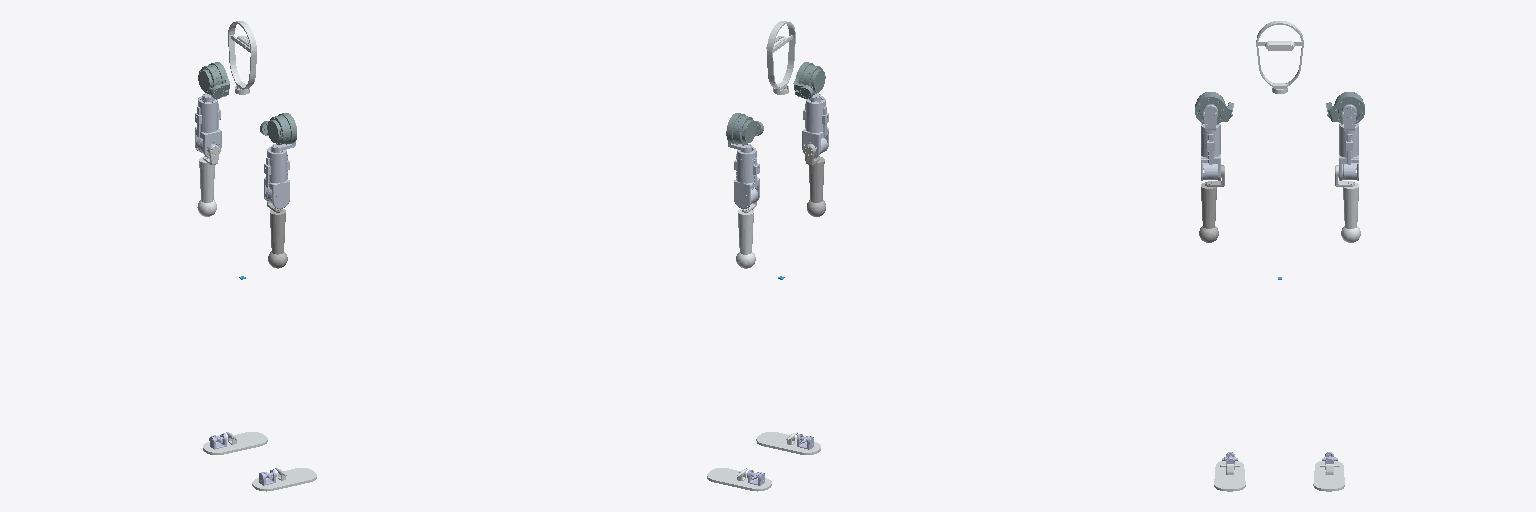
--- What the picture shows (computed from the rendered views, not written in the file) ---
Views: 3 orthographic renders of the robot side by side, from view 1: azimuth 30°, elevation 25°; view 2: azimuth 150°, elevation 25°; view 3: azimuth 270°, elevation 25°.
Robot: v3all — 24 links, 23 joints (22 revolute, 1 fixed); root link base_link; default pose: every joint at zero.
Visible links, largest first — view 1: right_arm_yaw_link, left_arm_yaw_link, head_link, left_arm_pitch_lower_link, right_arm_pitch_lower_link, left_arm_pitch_higher_link, right_arm_pitch_higher_link, left_ankle_roll_link, right_ankle_roll_link; view 2: left_arm_yaw_link, right_arm_yaw_link, head_link, right_arm_pitch_lower_link, left_arm_pitch_lower_link, left_arm_pitch_higher_link, right_arm_pitch_higher_link, left_ankle_roll_link, right_ankle_roll_link; view 3: left_arm_yaw_link, right_arm_yaw_link, left_arm_pitch_lower_link, right_arm_pitch_lower_link, head_link, left_ankle_roll_link, right_ankle_roll_link, right_arm_pitch_higher_link, left_arm_pitch_higher_link.
Boxes of the visible links, x1,y1,x2,y2 form: right_arm_yaw_link: (264, 147, 289, 208); left_arm_yaw_link: (195, 96, 221, 158); head_link: (228, 21, 256, 94); left_arm_pitch_lower_link: (197, 145, 219, 216); right_arm_pitch_lower_link: (267, 202, 287, 268); left_arm_pitch_higher_link: (198, 62, 229, 98); right_arm_pitch_higher_link: (260, 113, 296, 144); left_ankle_roll_link: (203, 432, 267, 454); right_ankle_roll_link: (252, 468, 316, 491); left_arm_yaw_link: (734, 147, 759, 208); right_arm_yaw_link: (802, 96, 828, 158); head_link: (766, 21, 795, 94); right_arm_pitch_lower_link: (804, 145, 825, 216); left_arm_pitch_lower_link: (736, 202, 756, 268); left_arm_pitch_higher_link: (726, 113, 763, 144); right_arm_pitch_higher_link: (793, 62, 825, 98); left_ankle_roll_link: (707, 468, 771, 491); right_ankle_roll_link: (756, 432, 820, 454); left_arm_yaw_link: (1339, 123, 1358, 180); right_arm_yaw_link: (1201, 123, 1220, 180); left_arm_pitch_lower_link: (1335, 165, 1360, 242); right_arm_pitch_lower_link: (1199, 165, 1224, 242); head_link: (1256, 21, 1303, 93); left_ankle_roll_link: (1313, 461, 1344, 491); right_ankle_roll_link: (1214, 461, 1245, 491); right_arm_pitch_higher_link: (1195, 92, 1233, 123); left_arm_pitch_higher_link: (1326, 92, 1364, 123).
Size in the robot's own frame: 0.21 by 0.518 by 1.5 metres.
13 mesh visuals loaded from 23 distinct referenced files (13 binary STL); not drawn: 10 (reference not matched to a file when rendering).

The robot description file, URDF, robot "v3all":
<?xml version="1.0" encoding="utf-8"?>
<!-- This URDF was automatically created by SolidWorks to URDF Exporter! Originally created by Stephen Brawner ([email redacted]) 
     Commit Version: 1.6.0-4-g7f85cfe  Build Version: 1.6.7995.38578
     For more information, please see http://wiki.ros.org/sw_urdf_exporter -->
<robot
  name="v3all">

  <!-- <mujoco>
    <compiler meshdir="package://v3all/meshes"  balanceinertia="true"  discardvisual="false"/>
  </mujoco> -->

  <gazebo>
    <joint name="world_to_base" type="fixed">
        <parent>world</parent>
        <child>base_link</child>
    </joint>
  </gazebo>  
  

  <link
    name="base_link">
    <inertial>
      <origin
        xyz="-1E-06 5E-07 0.0919"
        rpy="0 0 0" />
      <mass
        value="5.9904" />
      <inertia
        ixx="0.039668"
        ixy="-3E-06"
        ixz="-1.4E-05"
        iyy="0.026908"
        iyz="-5E-06"
        izz="0.028199" />
    </inertial>
    <visual>
      <origin
        xyz="0 0 0"
        rpy="0 0 0" />
      <geometry>
        <mesh
          filename="package://v3all/meshes/base_link.STL" />
      </geometry>
      <material
        name="">
        <color
          rgba="0.7529 0.7529 0.7529 1" />
      </material>
    </visual>
    <!-- <collision>
      <origin
        xyz="0 0. 0.43"
        rpy="0 0 0" />
      <geometry>
        <box size="0.21 0.52 0.86"/>
      </geometry>
    </collision> -->
    <collision>
      <origin
        xyz="0 0 0"
        rpy="0 0 0" />
      <geometry>
        <mesh
          filename="package://v3all/meshes/base_link.STL" />
      </geometry>
    </collision>
  </link>

  <joint name="imu_joint" type="fixed">
    <origin rpy="0. 0. 0." xyz="0. 0. 0"/>
    <parent link="base_link"/>
    <child link="imu_link"/>
  </joint>
  <!-- Imu link -->
  <link name="imu_link">
    <inertial>
      <mass value="0.01"/>
      <origin rpy="0 0 0" xyz="0 0 0"/>
      <inertia ixx="0.000001" ixy="0" ixz="0" iyy="0.000001" iyz="0" izz="0.000001"/>
    </inertial>
    <visual>
      <origin rpy="0 0 0" xyz="0 0 0"/>
      <geometry>
        <box size="0.015 0.015 0.004"/>
      </geometry>
    </visual>
    <material name="orange">
      <color rgba="255 108 10 255"/>
    </material>
  </link>
  <gazebo reference="imu_joint">
    <disableFixedJointLumping>true</disableFixedJointLumping>
  </gazebo>

  <link
    name="left_hip_pitch_link">
    <inertial>
      <origin
        xyz="0.0013 2E-05 0.0723"
        rpy="0 0 0" />
      <mass
        value="1.51575" />
      <inertia
        ixx="0.003169"
        ixy="0"
        ixz="-1.4E-05"
        iyy="0.002662"
        iyz="4E-06"
        izz="0.001994" />
    </inertial>
    <visual>
      <origin
        xyz="0 0 0"
        rpy="0 0 0" />
      <geometry>
        <mesh
          filename="package://v3all/meshes/left_hip_pitch_link.STL" />
      </geometry>
      <material
        name="">
        <color
          rgba="0.752 0.752 0.752 1" />
      </material>
    </visual>
    <collision>
      <origin
        xyz="0 0 0"
        rpy="0 0 0" />
      <geometry>
        <mesh
          filename="package://v3all/meshes/left_hip_pitch_link.STL" />
      </geometry>
    </collision>
  </link>
  <joint
    name="left_hip_pitch_joint"
    type="revolute">
    <origin
      xyz="0 0.0717 0.0713"
      rpy="-1.8326 0 0" />
    <parent
      link="base_link" />
    <child
      link="left_hip_pitch_link" />
    <axis
      xyz="0 0 -1" />
    <limit
      lower="-0.78"
      upper="2.09"
      effort="150"
      velocity="140" />
  </joint>
  <link
    name="left_hip_roll_link">
    <inertial>
      <origin
        xyz="-0.0859 -0.023 -0.0056"
        rpy="0 0 0" />
      <mass
        value="1.883003" />
      <inertia
        ixx="0.003605"
        ixy="-0.00063"
        ixz="0.000351"
        iyy="0.005783"
        iyz="9.2E-05"
        izz="0.005331" />
    </inertial>
    <visual>
      <origin
        xyz="0 0 0"
        rpy="0 0 0" />
      <geometry>
        <mesh
          filename="package://v3all/meshes/left_hip_roll_link.STL" />
      </geometry>
      <material
        name="">
        <color
          rgba="0.752 0.752 0.752 1" />
      </material>
    </visual>
    <collision>
      <origin
        xyz="0 0 0"
        rpy="0 0 0" />
      <geometry>
        <mesh
          filename="package://v3all/meshes/left_hip_roll_link.STL" />
      </geometry>
    </collision>
  </link>
  <joint
    name="left_hip_roll_joint"
    type="revolute">
    <origin
      xyz="0.0035 0 0.082"
      rpy="-1.5708 0 -1.5708" />
    <parent
      link="left_hip_pitch_link" />
    <child
      link="left_hip_roll_link" />
    <axis
      xyz="0 0 -1" />
    <limit
      lower="-2.17"
      upper="0.44"
      effort="90"
      velocity="157" />
  </joint>
  <link
    name="left_hip_yaw_link">
    <inertial>
      <origin
        xyz="-0.0038 -0.002 0.2637"
        rpy="0 0 0" />
      <mass
        value="3.121094" />
      <inertia
        ixx="0.012279"
        ixy="5E-06"
        ixz="5.8E-05"
        iyy="0.010554"
        iyz="0"
        izz="0.005795" />
    </inertial>
    <visual>
      <origin
        xyz="0 0 0"
        rpy="0 0 0" />
      <geometry>
        <mesh
          filename="package://v3all/meshes/left_hip_yaw_link.STL" />
      </geometry>
      <material
        name="">
        <color
          rgba="0.752 0.752 0.752 1" />
      </material>
    </visual>
    <collision>
      <origin
        xyz="0 0 0"
        rpy="0 0 0" />
      <geometry>
        <mesh
          filename="package://v3all/meshes/left_hip_yaw_link.STL" />
      </geometry>
    </collision>
  </link>
  <joint
    name="left_hip_yaw_joint"
    type="revolute">
    <origin
      xyz="0 0 0"
      rpy="1.5708 0 -1.309" />
    <parent
      link="left_hip_roll_link" />
    <child
      link="left_hip_yaw_link" />
    <axis
      xyz="0 0 -1" />
    <limit
      lower="-1.19"
      upper="1.19"
      effort="90"
      velocity="157" />
  </joint>
  <link
    name="left_knee_link">
    <inertial>
      <origin
        xyz="0.0014 0.1786 -0.0035"
        rpy="0 0 0" />
      <mass
        value="2.333767" />
      <inertia
        ixx="0.021691"
        ixy="-0.000614"
        ixz="-1.8E-05"
        iyy="0.002347"
        iyz="-0.000306"
        izz="0.021125" />
    </inertial>
    <visual>
      <origin
        xyz="0 0 0"
        rpy="0 0 0" />
      <geometry>
        <mesh
          filename="package://v3all/meshes/left_knee_link.STL" />
      </geometry>
      <material
        name="">
        <color
          rgba="0.8078 0.8431 0.9059 1" />
      </material>
    </visual>
<!--    <collision>-->
<!--      <origin-->
<!--        xyz="0 0 0"-->
<!--        rpy="0 0 0" />-->
<!--      <geometry>-->
<!--        <mesh-->
<!--          filename="package://v3all/meshes/left_knee_link.STL" />-->
<!--      </geometry>-->
<!--    </collision>-->
  </link>
  <joint
    name="left_knee_joint"
    type="revolute">
    <origin
      xyz="0.003 -0.002 0.277"
      rpy="1.5708 0 1.5708" />
    <parent
      link="left_hip_yaw_link" />
    <child
      link="left_knee_link" />
    <axis
      xyz="0 0 1" />
    <limit
      lower="0"
      upper="2.04"
      effort="150"
      velocity="140" />
  </joint>
  <link
    name="left_ankle_pitch_link">
    <inertial>
      <origin
        xyz="0 0.004 0"
        rpy="0 0 0" />
      <mass
        value="0.118663" />
      <inertia
        ixx="1.8E-05"
        ixy="0"
        ixz="0"
        iyy="3.3E-05"
        iyz="0"
        izz="3.3E-05" />
    </inertial>
    <visual>
      <origin
        xyz="0 0 0"
        rpy="0 0 0" />
      <geometry>
        <mesh
          filename="package://v3all/meshes/left_ankle_pitch_link.STL" />
      </geometry>
      <material
        name="">
        <color
          rgba="0.792 0.819 0.933 1" />
      </material>
    </visual>
    <collision>
      <origin
        xyz="0 0 0"
        rpy="0 0 0" />
      <geometry>
        <mesh
          filename="package://v3all/meshes/left_ankle_pitch_link.STL" />
      </geometry>
    </collision>
  </link>
  <joint
    name="left_ankle_pitch_joint"
    type="revolute">
    <origin
      xyz="0 0.3791 -0.003"
      rpy="0 0 0" />
    <parent
      link="left_knee_link" />
    <child
      link="left_ankle_pitch_link" />
    <axis
      xyz="0 0 -1" />
    <limit
      lower="-0.91"
      upper="0.91"
      effort="36"
      velocity="89" />
  </joint>
  <link
    name="left_ankle_roll_link">
    <inertial>
      <origin
        xyz="-0.0204 0.0008 0.0528"
        rpy="0 0 0" />
      <mass
        value="0.21168" />
      <inertia
        ixx="0.000603"
        ixy="1E-06"
        ixz="3E-06"
        iyy="0.000509"
        iyz="0"
        izz="0.000135" />
    </inertial>
    <visual>
      <origin
        xyz="0 0 0"
        rpy="0 0 0" />
      <geometry>
        <mesh
          filename="package://v3all/meshes/left_ankle_roll_link.STL" />
      </geometry>
      <material
        name="">
        <color
          rgba="0.898 0.9176 0.9294 1" />
      </material>
    </visual>
    <collision>
      <origin
        xyz="0 0 0"
        rpy="0 0 0" />
      <geometry>
        <mesh
          filename="package://v3all/meshes/left_ankle_roll_link.STL" />
      </geometry>
    </collision>
  </link>
  <joint
    name="left_ankle_roll_joint"
    type="revolute">
    <origin
      xyz="0 0 0"
      rpy="-1.5708 0 -1.5708" />
    <parent
      link="left_ankle_pitch_link" />
    <child
      link="left_ankle_roll_link" />
    <axis
      xyz="0 0 -1" />
    <limit
      lower="-1.11"
      upper="1.11"
      effort="36"
      velocity="89" />
  </joint>
  <link
    name="right_hip_pitch_link">
    <inertial>
      <origin
        xyz="0.0013 -2E-05 0.072"
        rpy="0 0 0" />
      <mass
        value="1.51575" />
      <inertia
        ixx="0.003161"
        ixy="0"
        ixz="-1E-05"
        iyy="0.002655"
        iyz="-3E-06"
        izz="0.001994" />
    </inertial>
    <visual>
      <origin
        xyz="0 0 0"
        rpy="0 0 0" />
      <geometry>
        <mesh
          filename="package://v3all/meshes/right_hip_pitch_link.STL" />
      </geometry>
      <material
        name="">
        <color
          rgba="0.7529 0.7529 0.7529 1" />
      </material>
    </visual>
    <collision>
      <origin
        xyz="0 0 0"
        rpy="0 0 0" />
      <geometry>
        <mesh
          filename="package://v3all/meshes/right_hip_pitch_link.STL" />
      </geometry>
    </collision>
  </link>
  <joint
    name="right_hip_pitch_joint"
    type="revolute">
    <origin
      xyz="0 -0.0717 0.0713"
      rpy="1.8326 0 0" />
    <parent
      link="base_link" />
    <child
      link="right_hip_pitch_link" />
    <axis
      xyz="0 0 -1" />
    <limit
      lower="-2.09"
      upper="0.78"
      effort="150"
      velocity="140" />
  </joint>
  <link
    name="right_hip_roll_link">
    <inertial>
      <origin
        xyz="-0.0859 0.023 -0.0056"
        rpy="0 0 0" />
      <mass
        value="1.883286" />
      <inertia
        ixx="0.003605"
        ixy="0.000629"
        ixz="0.000351"
        iyy="0.005784"
        iyz="-9.3E-05"
        izz="0.005331" />
    </inertial>
    <visual>
      <origin
        xyz="0 0 0"
        rpy="0 0 0" />
      <geometry>
        <mesh
          filename="package://v3all/meshes/right_hip_roll_link.STL" />
      </geometry>
      <material
        name="">
        <color
          rgba="0.752 0.752 0.752 1" />
      </material>
    </visual>
    <collision>
      <origin
        xyz="0 0 0"
        rpy="0 0 0" />
      <geometry>
        <mesh
          filename="package://v3all/meshes/right_hip_roll_link.STL" />
      </geometry>
    </collision>
  </link>
  <joint
    name="right_hip_roll_joint"
    type="revolute">
    <origin
      xyz="0.0035 0 0.082"
      rpy="1.5708 0 1.5708" />
    <parent
      link="right_hip_pitch_link" />
    <child
      link="right_hip_roll_link" />
    <axis
      xyz="0 0 -1" />
    <limit
      lower="-0.44"
      upper="2.17"
      effort="90"
      velocity="157" />
  </joint>
  <link
    name="right_hip_yaw_link">
    <inertial>
      <origin
        xyz="-0.0038 0.002 0.2637"
        rpy="0 0 0" />
      <mass
        value="3.121094" />
      <inertia
        ixx="0.012278"
        ixy="0"
        ixz="5.9E-05"
        iyy="0.010552"
        iyz="-1E-06"
        izz="0.005793" />
    </inertial>
    <visual>
      <origin
        xyz="0 0 0"
        rpy="0 0 0" />
      <geometry>
        <mesh
          filename="package://v3all/meshes/right_hip_yaw_link.STL" />
      </geometry>
      <material
        name="">
        <color
          rgba="0.752 0.752 0.752 1" />
      </material>
    </visual>
    <collision>
      <origin
        xyz="0 0 0"
        rpy="0 0 0" />
      <geometry>
        <mesh
          filename="package://v3all/meshes/right_hip_yaw_link.STL" />
      </geometry>
    </collision>
  </link>
  <joint
    name="right_hip_yaw_joint"
    type="revolute">
    <origin
      xyz="0 0 0"
      rpy="-1.5708 0 1.309" />
    <parent
      link="right_hip_roll_link" />
    <child
      link="right_hip_yaw_link" />
    <axis
      xyz="0 0 -1" />
    <limit
      lower="-1.19"
      upper="1.19"
      effort="90"
      velocity="157" />
  </joint>
  <link
    name="right_knee_link">
    <inertial>
      <origin
        xyz="0.0013 -0.1813 -0.0035"
        rpy="0 0 0" />
      <mass
        value="2.344445" />
      <inertia
        ixx="0.022495"
        ixy="0.000592"
        ixz="-1.9E-05"
        iyy="0.002341"
        iyz="0.000314"
        izz="0.021942" />
    </inertial>
    <visual>
      <origin
        xyz="0 0 0"
        rpy="0 0 0" />
      <geometry>
        <mesh
          filename="package://v3all/meshes/right_knee_link.STL" />
      </geometry>
      <material
        name="">
        <color
          rgba="0.807 0.843 0.905 1" />
      </material>
    </visual>
<!--    <collision>-->
<!--      <origin-->
<!--        xyz="0 0 0"-->
<!--        rpy="0 0 0" />-->
<!--      <geometry>-->
<!--        <mesh-->
<!--          filename="package://v3all/meshes/right_knee_link.STL" />-->
<!--      </geometry>-->
<!--    </collision>-->
  </link>
  <joint
    name="right_knee_joint"
    type="revolute">
    <origin
      xyz="0.003 0.002 0.277"
      rpy="-1.5708 0 -1.5708" />
    <parent
      link="right_hip_yaw_link" />
    <child
      link="right_knee_link" />
    <axis
      xyz="0 0 1" />
    <limit
      lower="-2.04"
      upper="0"
      effort="150"
      velocity="140" />
  </joint>
  <link
    name="right_ankle_pitch_link">
    <inertial>
      <origin
        xyz="0 -0.0048 0"
        rpy="0 0 0" />
      <mass
        value="0.098947" />
      <inertia
        ixx="1.7E-05"
        ixy="0"
        ixz="0"
        iyy="2.5E-05"
        iyz="0"
        izz="2.6E-05" />
    </inertial>
    <visual>
      <origin
        xyz="0 0 0"
        rpy="0 0 0" />
      <geometry>
        <mesh
          filename="package://v3all/meshes/right_ankle_pitch_link.STL" />
      </geometry>
      <material
        name="">
        <color
          rgba="0.792 0.819 0.933 1" />
      </material>
    </visual>
    <collision>
      <origin
        xyz="0 0 0"
        rpy="0 0 0" />
      <geometry>
        <mesh
          filename="package://v3all/meshes/right_ankle_pitch_link.STL" />
      </geometry>
    </collision>
  </link>
  <joint
    name="right_ankle_pitch_joint"
    type="revolute">
    <origin
      xyz="0 -0.3791 -0.003"
      rpy="0 0 0" />
    <parent
      link="right_knee_link" />
    <child
      link="right_ankle_pitch_link" />
    <axis
      xyz="0 0 1" />
    <limit
      lower="-0.91"
      upper="0.91"
      effort="36"
      velocity="89" />
  </joint>
  <link
    name="right_ankle_roll_link">
    <inertial>
      <origin
        xyz="-0.0204 0.0008 0.0528"
        rpy="0 0 0" />
      <mass
        value="0.21168" />
      <inertia
        ixx="0.000603"
        ixy="1E-06"
        ixz="3E-06"
        iyy="0.000509"
        iyz="0"
        izz="0.000135" />
    </inertial>
    <visual>
      <origin
        xyz="0 0 0"
        rpy="0 0 0" />
      <geometry>
        <mesh
          filename="package://v3all/meshes/right_ankle_roll_link.STL" />
      </geometry>
      <material
        name="">
        <color
          rgba="0.898 0.917 0.929 1" />
      </material>
    </visual>
    <collision>
      <origin
        xyz="0 0 0"
        rpy="0 0 0" />
      <geometry>
        <mesh
          filename="package://v3all/meshes/right_ankle_roll_link.STL" />
      </geometry>
    </collision>
  </link>
  <joint
    name="right_ankle_roll_joint"
    type="revolute">
    <origin
      xyz="0 0 0"
      rpy="1.5708 0 1.5708" />
    <parent
      link="right_ankle_pitch_link" />
    <child
      link="right_ankle_roll_link" />
    <axis
      xyz="0 0 -1" />
    <limit
      lower="-1.11"
      upper="1.11"
      effort="36"
      velocity="89" />
  </joint>
  <link
    name="waist_link">
    <inertial>
      <origin
        xyz="0.002 1E-04 0.2569"
        rpy="0 0 0" />
      <mass
        value="11.494" />
      <inertia
        ixx="0.2006"
        ixy="6.8E-05"
        ixz="0.004701"
        iyy="0.15896"
        iyz="-2.9E-05"
        izz="0.077548" />
    </inertial>
    <visual>
      <origin
        xyz="0 0 0"
        rpy="0 0 0" />
      <geometry>
        <mesh
          filename="package://v3all/meshes/waist_link.STL" />
      </geometry>
      <material
        name="">
        <color
          rgba="0.592 0.666 0.682 1" />
      </material>
    </visual>
    <collision>
      <origin
        xyz="0 0 0"
        rpy="0 0 0" />
      <geometry>
        <mesh
          filename="package://v3all/meshes/waist_link.STL" />
      </geometry>
    </collision>
  </link>
  <joint
    name="waist_joint"
    type="revolute">
    <origin
      xyz="0 0 0.16799"
      rpy="0 0 0" />
    <parent
      link="base_link" />
    <child
      link="waist_link" />
    <axis
      xyz="0 0 -1" />
    <limit
      lower="-1"
      upper="1"
      effort="90"
      velocity="157" />
  </joint>
  <link
    name="head_link">
    <inertial>
      <origin
        xyz="0.0094 0.0007 0.1407"
        rpy="0 0 0" />
      <mass
        value="0.414628" />
      <inertia
        ixx="0.002188"
        ixy="0"
        ixz="8E-05"
        iyy="0.001664"
        iyz="6E-06"
        izz="0.000611" />
    </inertial>
    <visual>
      <origin
        xyz="0 0 0"
        rpy="0 0 0" />
      <geometry>
        <mesh
          filename="package://v3all/meshes/head_link.STL" />
      </geometry>
      <material
        name="">
        <color
          rgba="0.898 0.917 0.929 1" />
      </material>
    </visual>
    <collision>
      <origin
        xyz="0 0 0"
        rpy="0 0 0" />
      <geometry>
        <mesh
          filename="package://v3all/meshes/head_link.STL" />
      </geometry>
    </collision>
  </link>
  <joint
    name="head_joint"
    type="revolute">
    <origin
      xyz="0 0 0.4583"
      rpy="0 0 0" />
    <parent
      link="waist_link" />
    <child
      link="head_link" />
    <axis
      xyz="0 0 -1" />
    <limit
      lower="-1"
      upper="1"
      effort="36"
      velocity="89" />
  </joint>
  <link
    name="left_arm_pitch_higher_link">
    <inertial>
      <origin
        xyz="0.0154 -5E-06 0.1253"
        rpy="0 0 0" />
      <mass
        value="2.5818" />
      <inertia
        ixx="0.002631"
        ixy="0"
        ixz="-1.6E-05"
        iyy="0.002105"
        iyz="1E-06"
        izz="0.001799" />
    </inertial>
    <visual>
      <origin
        xyz="0 0 0"
        rpy="0 0 0" />
      <geometry>
        <mesh
          filename="package://v3all/meshes/left_arm_pitch_higher_link.STL" />
      </geometry>
      <material
        name="">
        <color
          rgba="0.592 0.666 0.682 1" />
      </material>
    </visual>
    <collision>
      <origin
        xyz="0 0 0"
        rpy="0 0 0" />
      <geometry>
        <mesh
          filename="package://v3all/meshes/left_arm_pitch_higher_link.STL" />
      </geometry>
    </collision>
  </link>
  <joint
    name="left_arm_pitch_higher_joint"
    type="revolute">
    <origin
      xyz="0 0.0879 0.3801"
      rpy="-1.309 0 0" />
    <parent
      link="waist_link" />
    <child
      link="left_arm_pitch_higher_link" />
    <axis
      xyz="0 0 -1" />
    <limit
      lower="-0.5"
      upper="1.5"
      effort="60"
      velocity="149" />
  </joint>
  <link
    name="left_arm_roll_link">
    <inertial>
      <origin
        xyz="-0.0803 0.021 0.0083"
        rpy="0 0 0" />
      <mass
        value="1.1713" />
      <inertia
        ixx="0.000686"
        ixy="0.000164"
        ixz="-0.000331"
        iyy="0.001253"
        iyz="8.5E-05"
        izz="0.001077" />
    </inertial>
    <visual>
      <origin
        xyz="0 0 0"
        rpy="0 0 0" />
      <geometry>
        <mesh
          filename="package://v3all/meshes/left_arm_roll_link.STL" />
      </geometry>
      <material
        name="">
        <color
          rgba="0.807 0.843 0.905 1" />
      </material>
    </visual>
    <collision>
      <origin
        xyz="0 0 0"
        rpy="0 0 0" />
      <geometry>
        <mesh
          filename="package://v3all/meshes/left_arm_roll_link.STL" />
      </geometry>
    </collision>
  </link>
  <joint
    name="left_arm_roll_joint"
    type="revolute">
    <origin
      xyz="-0.0036 0.0036 0.126"
      rpy="-1.5708 0 -1.5708" />
    <parent
      link="left_arm_pitch_higher_link" />
    <child
      link="left_arm_roll_link" />
    <axis
      xyz="0 0 -1" />
    <limit
      lower="-1.5"
      upper="0.3"
      effort="60"
      velocity="149" />
  </joint>
  <link
    name="left_arm_yaw_link">
    <inertial>
      <origin
        xyz="-0.001 0.0031 0.2006"
        rpy="0 0 0" />
      <mass
        value="1.3557" />
      <inertia
        ixx="0.002511"
        ixy="0"
        ixz="1.9E-05"
        iyy="0.002598"
        iyz="4E-06"
        izz="0.000808" />
    </inertial>
    <visual>
      <origin
        xyz="0 0 0"
        rpy="0 0 0" />
      <geometry>
        <mesh
          filename="package://v3all/meshes/left_arm_yaw_link.STL" />
      </geometry>
      <material
        name="">
        <color
          rgba="0.807 0.843 0.905 1" />
      </material>
    </visual>
    <collision>
      <origin
        xyz="0 0 0"
        rpy="0 0 0" />
      <geometry>
        <mesh
          filename="package://v3all/meshes/left_arm_yaw_link.STL" />
      </geometry>
    </collision>
  </link>
  <joint
    name="left_arm_yaw_joint"
    type="revolute">
    <origin
      xyz="0 0 0.0005"
      rpy="1.5708 0 -1.8326" />
    <parent
      link="left_arm_roll_link" />
    <child
      link="left_arm_yaw_link" />
    <axis
      xyz="0 0 1" />
    <limit
      lower="-1"
      upper="1.8"
      effort="36"
      velocity="89" />
  </joint>
  <link
    name="left_arm_pitch_lower_link">
    <inertial>
      <origin
        xyz="1E-06 0.1289 -0.0075"
        rpy="0 0 0" />
      <mass
        value="0.165316" />
      <inertia
        ixx="0.001027"
        ixy="0"
        ixz="0"
        iyy="9.3E-05"
        iyz="-0.000178"
        izz="0.00097" />
    </inertial>
    <visual>
      <origin
        xyz="0 0 0"
        rpy="0 0 0" />
      <geometry>
        <mesh
          filename="package://v3all/meshes/left_arm_pitch_lower_link.STL" />
      </geometry>
      <material
        name="">
        <color
          rgba="0.898 0.917 0.929 1" />
      </material>
    </visual>
    <collision>
      <origin
        xyz="0 0 0"
        rpy="0 0 0" />
      <geometry>
        <mesh
          filename="package://v3all/meshes/left_arm_pitch_lower_link.STL" />
      </geometry>
    </collision>
  </link>
  <joint
    name="left_arm_pitch_lower_joint"
    type="revolute">
    <origin
      xyz="0.0075 0.0031 0.2177"
      rpy="1.5708 0 1.5708" />
    <parent
      link="left_arm_yaw_link" />
    <child
      link="left_arm_pitch_lower_link" />
    <axis
      xyz="0 0 1" />
    <limit
      lower="-2"
      upper="0"
      effort="36"
      velocity="89" />
  </joint>
  <link
    name="right_arm_pitch_higher_link">
    <inertial>
      <origin
        xyz="0.0154 4E-06 0.1253"
        rpy="0 0 0" />
      <mass
        value="2.5818" />
      <inertia
        ixx="0.002631"
        ixy="0"
        ixz="-1.6E-05"
        iyy="0.002105"
        iyz="-1E-06"
        izz="0.001799" />
    </inertial>
    <visual>
      <origin
        xyz="0 0 0"
        rpy="0 0 0" />
      <geometry>
        <mesh
          filename="package://v3all/meshes/right_arm_pitch_higher_link.STL" />
      </geometry>
      <material
        name="">
        <color
          rgba="0.592 0.666 0.682 1" />
      </material>
    </visual>
    <collision>
      <origin
        xyz="0 0 0"
        rpy="0 0 0" />
      <geometry>
        <mesh
          filename="package://v3all/meshes/right_arm_pitch_higher_link.STL" />
      </geometry>
    </collision>
  </link>
  <joint
    name="right_arm_pitch_higher_joint"
    type="revolute">
    <origin
      xyz="0 -0.0879 0.3801"
      rpy="1.309 0 0" />
    <parent
      link="waist_link" />
    <child
      link="right_arm_pitch_higher_link" />
    <axis
      xyz="0 0 -1" />
    <limit
      lower="-1.5"
      upper="0.5"
      effort="60"
      velocity="149" />
  </joint>
  <link
    name="right_arm_roll_link">
    <inertial>
      <origin
        xyz="-0.0838 -0.0225 0.0076"
        rpy="0 0 0" />
      <mass
        value="1.1713" />
      <inertia
        ixx="0.000686"
        ixy="-0.000163"
        ixz="-0.000331"
        iyy="0.001254"
        iyz="-8.5E-05"
        izz="0.001077" />
    </inertial>
    <visual>
      <origin
        xyz="0 0 0"
        rpy="0 0 0" />
      <geometry>
        <mesh
          filename="package://v3all/meshes/right_arm_roll_link.STL" />
      </geometry>
      <material
        name="">
        <color
          rgba="0.807 0.843 0.905 1" />
      </material>
    </visual>
    <collision>
      <origin
        xyz="0 0 0"
        rpy="0 0 0" />
      <geometry>
        <mesh
          filename="package://v3all/meshes/right_arm_roll_link.STL" />
      </geometry>
    </collision>
  </link>
  <joint
    name="right_arm_roll_joint"
    type="revolute">
    <origin
      xyz="-0.003 0 0.1275"
      rpy="1.5708 0 1.5708" />
    <parent
      link="right_arm_pitch_higher_link" />
    <child
      link="right_arm_roll_link" />
    <axis
      xyz="0 0 -1" />
    <limit
      lower="-0.3"
      upper="1.5"
      effort="60"
      velocity="149" />
  </joint>
  <link
    name="right_arm_yaw_link">
    <inertial>
      <origin
        xyz="-0.0015212 -0.0030023 0.20448"
        rpy="0 0 0" />
      <mass
        value="1.3557" />
      <inertia
        ixx="0.002511"
        ixy="0"
        ixz="1.9E-05"
        iyy="0.002598"
        iyz="3E-06"
        izz="0.000808" />
    </inertial>
    <visual>
      <origin
        xyz="0 0 0"
        rpy="0 0 0" />
      <geometry>
        <mesh
          filename="package://v3all/meshes/right_arm_yaw_link.STL" />
      </geometry>
      <material
        name="">
        <color
          rgba="0.80784 0.84314 0.90588 1" />
      </material>
    </visual>
    <collision>
      <origin
        xyz="0 0 0"
        rpy="0 0 0" />
      <geometry>
        <mesh
          filename="package://v3all/meshes/right_arm_yaw_link.STL" />
      </geometry>
    </collision>
  </link>
  <joint
    name="right_arm_yaw_joint"
    type="revolute">
    <origin
      xyz="0 0 0"
      rpy="-1.5708 0 1.8326" />
    <parent
      link="right_arm_roll_link" />
    <child
      link="right_arm_yaw_link" />
    <axis
      xyz="0 0 1" />
    <limit
      lower="-1.8"
      upper="1"
      effort="36"
      velocity="89" />
  </joint>
  <link
    name="right_arm_pitch_lower_link">
    <inertial>
      <origin
        xyz="1E-06 -0.1289 -0.0075"
        rpy="0 0 0" />
      <mass
        value="0.165316" />
      <inertia
        ixx="0.001027"
        ixy="0"
        ixz="0"
        iyy="9.3E-05"
        iyz="0.000178"
        izz="0.00097" />
    </inertial>
    <visual>
      <origin
        xyz="0 0 0"
        rpy="0 0 0" />
      <geometry>
        <mesh
          filename="package://v3all/meshes/right_arm_pitch_lower_link.STL" />
      </geometry>
      <material
        name="">
        <color
          rgba="0.752 0.752 0.752 1" />
      </material>
    </visual>
    <collision>
      <origin
        xyz="0 0 0"
        rpy="0 0 0" />
      <geometry>
        <mesh
          filename="package://v3all/meshes/right_arm_pitch_lower_link.STL" />
      </geometry>
    </collision>
  </link>
  <joint
    name="right_arm_pitch_lower_joint"
    type="revolute">
    <origin
      xyz="0.007 -0.003 0.2215"
      rpy="-1.5708 0 -1.5708" />
    <parent
      link="right_arm_yaw_link" />
    <child
      link="right_arm_pitch_lower_link" />
    <axis
      xyz="0 0 1" />
    <limit
      lower="0"
      upper="2"
      effort="36"
      velocity="89" />
  </joint>

   <transmission name="left_hip_pitch_tran">
    <type>transmission_interface/SimpleTransmission</type>
    <joint name="left_hip_pitch_joint">
      <hardwareInterface>hardware_interface/EffortJointInterface</hardwareInterface>
    </joint>
    <actuator name="left_hip_pitch_motor">
      <hardwareInterface>hardware_interface/EffortJointInterface</hardwareInterface>
      <mechanicalReduction>1.0</mechanicalReduction>
    </actuator>
  </transmission>
  <transmission name="left_hip_roll_tran">
    <type>transmission_interface/SimpleTransmission</type>
    <joint name="left_hip_roll_joint">
      <hardwareInterface>hardware_interface/EffortJointInterface</hardwareInterface>
    </joint>
    <actuator name="left_hip_roll_motor">
      <hardwareInterface>hardware_interface/EffortJointInterface</hardwareInterface>
      <mechanicalReduction>1.0</mechanicalReduction>
    </actuator>
  </transmission>
  <transmission name="left_hip_yaw_tran">
    <type>transmission_interface/SimpleTransmission</type>
    <joint name="left_hip_yaw_joint">
      <hardwareInterface>hardware_interface/EffortJointInterface</hardwareInterface>
    </joint>
    <actuator name="left_hip_yaw_motor">
      <hardwareInterface>hardware_interface/EffortJointInterface</hardwareInterface>
      <mechanicalReduction>1.0</mechanicalReduction>
    </actuator>
  </transmission>
  <transmission name="left_knee_tran">
    <type>transmission_interface/SimpleTransmission</type>
    <joint name="left_knee_joint">
      <hardwareInterface>hardware_interface/EffortJointInterface</hardwareInterface>
    </joint>
    <actuator name="left_knee_motor">
      <hardwareInterface>hardware_interface/EffortJointInterface</hardwareInterface>
      <mechanicalReduction>1.0</mechanicalReduction>
    </actuator>
  </transmission>
  <transmission name="left_ankle_pitch_tran">
    <type>transmission_interface/SimpleTransmission</type>
    <joint name="left_ankle_pitch_joint">
      <hardwareInterface>hardware_interface/EffortJointInterface</hardwareInterface>
    </joint>
    <actuator name="left_ankle_pitch_motor">
      <hardwareInterface>hardware_interface/EffortJointInterface</hardwareInterface>
      <mechanicalReduction>1.0</mechanicalReduction>
    </actuator>
  </transmission>
  <transmission name="left_ankle_roll_tran">
    <type>transmission_interface/SimpleTransmission</type>
    <joint name="left_ankle_roll_joint">
      <hardwareInterface>hardware_interface/EffortJointInterface</hardwareInterface>
    </joint>
    <actuator name="left_ankle_roll_motor">
      <hardwareInterface>hardware_interface/EffortJointInterface</hardwareInterface>
      <mechanicalReduction>1.0</mechanicalReduction>
    </actuator>
  </transmission>


  <transmission name="right_hip_pitch_tran">
    <type>transmission_interface/SimpleTransmission</type>
    <joint name="right_hip_pitch_joint">
      <hardwareInterface>hardware_interface/EffortJointInterface</hardwareInterface>
    </joint>
    <actuator name="right_hip_pitch_motor">
      <hardwareInterface>hardware_interface/EffortJointInterface</hardwareInterface>
      <mechanicalReduction>1.0</mechanicalReduction>
    </actuator>
  </transmission>
  <transmission name="right_hip_roll_tran">
    <type>transmission_interface/SimpleTransmission</type>
    <joint name="right_hip_roll_joint">
      <hardwareInterface>hardware_interface/EffortJointInterface</hardwareInterface>
    </joint>
    <actuator name="right_hip_roll_motor">
      <hardwareInterface>hardware_interface/EffortJointInterface</hardwareInterface>
      <mechanicalReduction>1.0</mechanicalReduction>
    </actuator>
  </transmission>
  <transmission name="right_hip_yaw_tran">
    <type>transmission_interface/SimpleTransmission</type>
    <joint name="right_hip_yaw_joint">
      <hardwareInterface>hardware_interface/EffortJointInterface</hardwareInterface>
    </joint>
    <actuator name="right_hip_yaw_motor">
      <hardwareInterface>hardware_interface/EffortJointInterface</hardwareInterface>
      <mechanicalReduction>1.0</mechanicalReduction>
    </actuator>
  </transmission>
  <transmission name="right_knee_tran">
    <type>transmission_interface/SimpleTransmission</type>
    <joint name="right_knee_joint">
      <hardwareInterface>hardware_interface/EffortJointInterface</hardwareInterface>
    </joint>
    <actuator name="right_knee_motor">
      <hardwareInterface>hardware_interface/EffortJointInterface</hardwareInterface>
      <mechanicalReduction>1.0</mechanicalReduction>
    </actuator>
  </transmission>
  <transmission name="right_ankle_pitch_tran">
    <type>transmission_interface/SimpleTransmission</type>
    <joint name="right_ankle_pitch_joint">
      <hardwareInterface>hardware_interface/EffortJointInterface</hardwareInterface>
    </joint>
    <actuator name="right_ankle_pitch_motor">
      <hardwareInterface>hardware_interface/EffortJointInterface</hardwareInterface>
      <mechanicalReduction>1.0</mechanicalReduction>
    </actuator>
  </transmission>
  <transmission name="right_ankle_roll_tran">
    <type>transmission_interface/SimpleTransmission</type>
    <joint name="right_ankle_roll_joint">
      <hardwareInterface>hardware_interface/EffortJointInterface</hardwareInterface>
    </joint>
    <actuator name="right_ankle_roll_motor">
      <hardwareInterface>hardware_interface/EffortJointInterface</hardwareInterface>
      <mechanicalReduction>1.0</mechanicalReduction>
    </actuator>
  </transmission>
  
  <transmission name="waist_tran">
    <type>transmission_interface/SimpleTransmission</type>
    <joint name="waist_joint">
      <hardwareInterface>hardware_interface/EffortJointInterface</hardwareInterface>
    </joint>
    <actuator name="waist_motor">
      <hardwareInterface>hardware_interface/EffortJointInterface</hardwareInterface>
      <mechanicalReduction>1.0</mechanicalReduction>
    </actuator>
  </transmission>

  <transmission name="head_tran">
    <type>transmission_interface/SimpleTransmission</type>
    <joint name="head_joint">
      <hardwareInterface>hardware_interface/EffortJointInterface</hardwareInterface>
    </joint>
    <actuator name="head_motor">
      <hardwareInterface>hardware_interface/EffortJointInterface</hardwareInterface>
      <mechanicalReduction>1.0</mechanicalReduction>
    </actuator>
  </transmission>

  <transmission name="left_arm_pitch_higher_tran">
    <type>transmission_interface/SimpleTransmission</type>
    <joint name="left_arm_pitch_higher_joint">
      <hardwareInterface>hardware_interface/EffortJointInterface</hardwareInterface>
    </joint>
    <actuator name="left_arm_pitch_higher_motor">
      <hardwareInterface>hardware_interface/EffortJointInterface</hardwareInterface>
      <mechanicalReduction>1.0</mechanicalReduction>
    </actuator>
  </transmission>
  <transmission name="left_arm_roll_tran">
    <type>transmission_interface/SimpleTransmission</type>
    <joint name="left_arm_roll_joint">
      <hardwareInterface>hardware_interface/EffortJointInterface</hardwareInterface>
    </joint>
    <actuator name="left_arm_roll_motor">
      <hardwareInterface>hardware_interface/EffortJointInterface</hardwareInterface>
      <mechanicalReduction>1.0</mechanicalReduction>
    </actuator>
  </transmission>
  <transmission name="left_arm_yaw_tran">
    <type>transmission_interface/SimpleTransmission</type>
    <joint name="left_arm_yaw_joint">
      <hardwareInterface>hardware_interface/EffortJointInterface</hardwareInterface>
    </joint>
    <actuator name="left_arm_yaw_motor">
      <hardwareInterface>hardware_interface/EffortJointInterface</hardwareInterface>
      <mechanicalReduction>1.0</mechanicalReduction>
    </actuator>
  </transmission>
  <transmission name="left_arm_pitch_lower_tran">
    <type>transmission_interface/SimpleTransmission</type>
    <joint name="left_arm_pitch_lower_joint">
      <hardwareInterface>hardware_interface/EffortJointInterface</hardwareInterface>
    </joint>
    <actuator name="left_arm_pitch_lower_motor">
      <hardwareInterface>hardware_interface/EffortJointInterface</hardwareInterface>
      <mechanicalReduction>1.0</mechanicalReduction>
    </actuator>
  </transmission>

  <transmission name="right_arm_pitch_higher_tran">
    <type>transmission_interface/SimpleTransmission</type>
    <joint name="right_arm_pitch_higher_joint">
      <hardwareInterface>hardware_interface/EffortJointInterface</hardwareInterface>
    </joint>
    <actuator name="right_arm_pitch_higher_motor">
      <hardwareInterface>hardware_interface/EffortJointInterface</hardwareInterface>
      <mechanicalReduction>1.0</mechanicalReduction>
    </actuator>
  </transmission>
  <transmission name="right_arm_roll_tran">
    <type>transmission_interface/SimpleTransmission</type>
    <joint name="right_arm_roll_joint">
      <hardwareInterface>hardware_interface/EffortJointInterface</hardwareInterface>
    </joint>
    <actuator name="right_arm_roll_motor">
      <hardwareInterface>hardware_interface/EffortJointInterface</hardwareInterface>
      <mechanicalReduction>1.0</mechanicalReduction>
    </actuator>
  </transmission>
  <transmission name="right_arm_yaw_tran">
    <type>transmission_interface/SimpleTransmission</type>
    <joint name="right_arm_yaw_joint">
      <hardwareInterface>hardware_interface/EffortJointInterface</hardwareInterface>
    </joint>
    <actuator name="right_arm_yaw_motor">
      <hardwareInterface>hardware_interface/EffortJointInterface</hardwareInterface>
      <mechanicalReduction>1.0</mechanicalReduction>
    </actuator>
  </transmission>
  <transmission name="right_arm_pitch_lower_tran">
    <type>transmission_interface/SimpleTransmission</type>
    <joint name="right_arm_pitch_lower_joint">
      <hardwareInterface>hardware_interface/EffortJointInterface</hardwareInterface>
    </joint>
    <actuator name="right_arm_pitch_lower_motor">
      <hardwareInterface>hardware_interface/EffortJointInterface</hardwareInterface>
      <mechanicalReduction>1.0</mechanicalReduction>
    </actuator>
  </transmission>

  <gazebo>
    <plugin name="gazebo_ros_control" filename="libgazebo_ros_control.so">
      <robotNamespace>/orca_ydescription</robotNamespace>
      <robotSimType>gazebo_ros_control/DefaultRobotHWSim</robotSimType>
    </plugin>
  </gazebo>

 <!-- IMU plugin for 'body_link' -->
  <gazebo reference="base_link">
    <gravity>true</gravity>
    <sensor name="imu_sensor" type="imu">
      <always_on>true</always_on>
      <update_rate>1000</update_rate>
      <visualize>true</visualize>
      <topic>__default_topic__</topic>
      <plugin filename="libgazebo_ros_imu_sensor.so" name="imu_plugin">
        <topicName>imu</topicName>
        <bodyName>base_link</bodyName>
        <updateRateHZ>1000.0</updateRateHZ>
        <gaussianNoise>0.0</gaussianNoise>
        <xyzOffset>0 0 0</xyzOffset>
        <rpyOffset>0 0 0</rpyOffset>
        <frameName>imu_link</frameName>
      </plugin>
      <pose>0 0 0 0 0 0</pose>
    </sensor>
  </gazebo>


  <gazebo reference="left_hip_pitch_link">
    <mu1>0.2</mu1>
    <mu2>0.2</mu2>
  </gazebo>
  <gazebo reference="left_hip_roll_link">
    <mu1>0.2</mu1>
    <mu2>0.2</mu2>
  </gazebo>
  <gazebo reference="left_hip_yaw_link">
    <mu1>0.2</mu1>
    <mu2>0.2</mu2>
  </gazebo>
  <gazebo reference="left_knee_link">
    <mu1>0.2</mu1>
    <mu2>0.2</mu2>
  </gazebo>
  <gazebo reference="left_ankle_pitch_link">
    <mu1>5</mu1>
    <mu2>5</mu2>
  </gazebo>
  <gazebo reference="left_ankle_roll_link">
    <mu1>5</mu1>
    <mu2>5</mu2>
  </gazebo>


  <gazebo reference="right_hip_pitch_link">
    <mu1>0.2</mu1>
    <mu2>0.2</mu2>
  </gazebo>
  <gazebo reference="right_hip_roll_link">
    <mu1>0.2</mu1>
    <mu2>0.2</mu2>
  </gazebo>
  <gazebo reference="right_hip_yaw_link">
    <mu1>0.2</mu1>
    <mu2>0.2</mu2>
  </gazebo>
  <gazebo reference="right_knee_link">
    <mu1>0.2</mu1>
    <mu2>0.2</mu2>
  </gazebo>
  <gazebo reference="right_ankle_ankle_link">
    <mu1>5</mu1>
    <mu2>5</mu2>
  </gazebo>
  <gazebo reference="right_ankle_roll_link">
    <mu1>5</mu1>
    <mu2>5</mu2>
  </gazebo>

  
  <gazebo reference="waist_link">
    <mu1>0.2</mu1>
    <mu2>0.2</mu2>
  </gazebo>
  <gazebo reference="head_link">
    <mu1>0.2</mu1>
    <mu2>0.2</mu2>
  </gazebo>

  <gazebo reference="left_arm_pitch_higher_link">
    <mu1>0.2</mu1>
    <mu2>0.2</mu2>
  </gazebo>
  <gazebo reference="left_arm_roll_link">
    <mu1>0.2</mu1>
    <mu2>0.2</mu2>
  </gazebo>
  <gazebo reference="left_arm_yaw_link">
    <mu1>0.2</mu1>
    <mu2>0.2</mu2>
  </gazebo>
  <gazebo reference="left_arm_pitch_lower_link">
    <mu1>0.2</mu1>
    <mu2>0.2</mu2>
  </gazebo>

  <gazebo reference="right_arm_pitch_higher_link">
    <mu1>0.2</mu1>
    <mu2>0.2</mu2>
  </gazebo>
  <gazebo reference="right_arm_roll_link">
    <mu1>0.2</mu1>
    <mu2>0.2</mu2>
  </gazebo>
  <gazebo reference="right_arm_yaw_link">
    <mu1>0.2</mu1>
    <mu2>0.2</mu2>
  </gazebo>
  <gazebo reference="right_arm_pitch_lower_link">
    <mu1>0.2</mu1>
    <mu2>0.2</mu2>
  </gazebo>


</robot>
